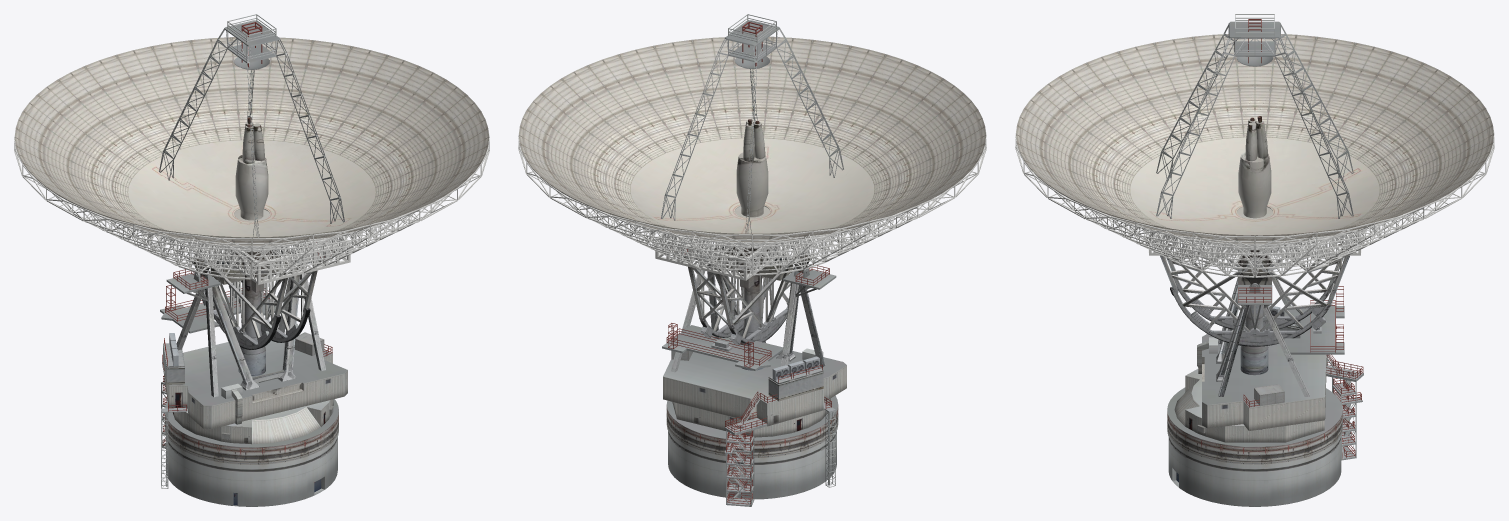
Rendered from dsn-70m.glb.
3 views of the same model, side by side, from view 1: azimuth 30°, elevation 25°; view 2: azimuth 150°, elevation 25°; view 3: azimuth 270°, elevation 25° (orthographic). The views are drawn at different scales.
Parts seen in each view (by area): view 1: dish, azimuth, truss_box; view 2: dish, azimuth, truss_box; view 3: dish, azimuth, truss_box.
Boxes of the visible parts, <box> form: dish: <box>14,37,489,245</box>; azimuth: <box>159,14,347,506</box>; truss_box: <box>14,112,489,284</box>; dish: <box>519,36,985,242</box>; azimuth: <box>661,14,846,506</box>; truss_box: <box>518,109,986,280</box>; dish: <box>1016,34,1493,243</box>; azimuth: <box>1155,14,1363,506</box>; truss_box: <box>1015,109,1494,277</box>.
Size of the model in its own units: 70.23 by 73.09 by 70.23.
Materials: 4 (2 with a texture image).
